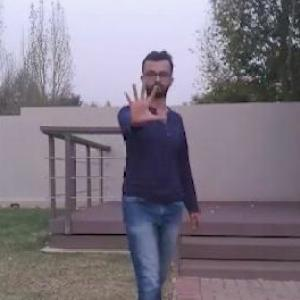follow_hand: (121, 79, 168, 126)
